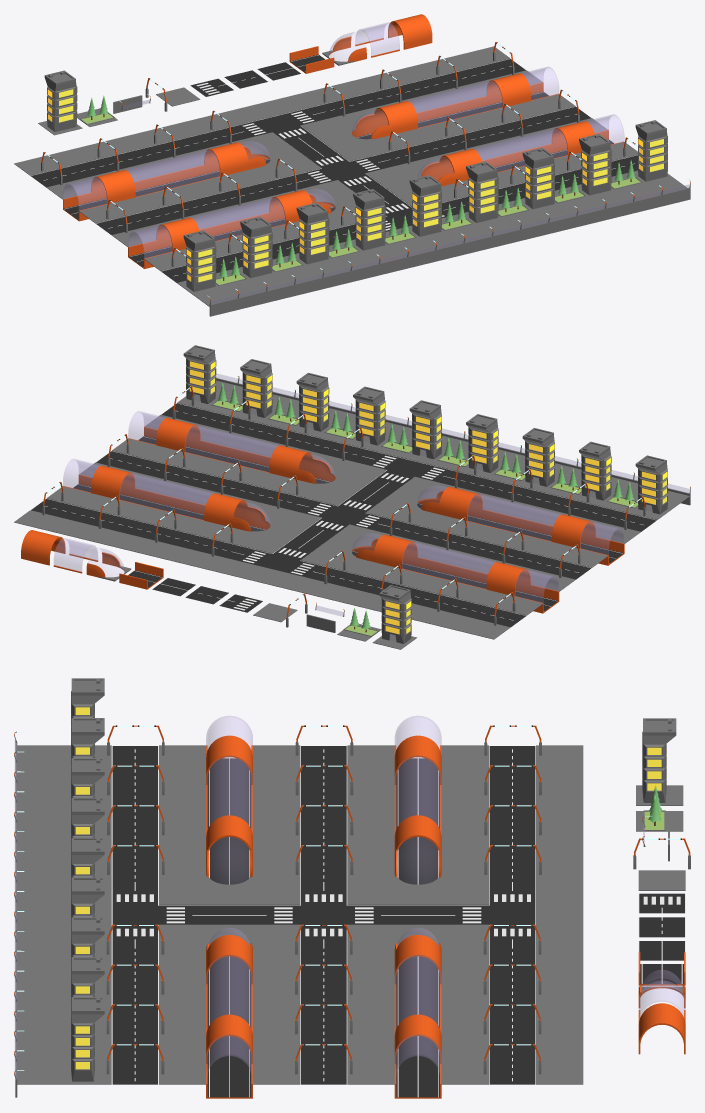
Rendered from env.glb.
The picture shows the model from 3 angles, top to bottom: view 1: azimuth 30°, elevation 25°; view 2: azimuth 150°, elevation 25°; view 3: azimuth 270°, elevation 25°; orthographic projection. The views are drawn at different scales.
Visible parts, largest first — view 1: Building_a.001, Walkside_a.013, Walkside_a.012, wall.001, Walkside_b.001, Walkside_a.004, Walkside_a.007, HightWayRaod.002, Road_a.001, Road_a.006, Road_a.002, Road_a.004 (+51 smaller); view 2: Building_a.001, Walkside_a.013, Walkside_b.001, Walkside_a.009, Walkside_a.005, Walkside_a.008, Walkside_a.014, HightWayRaod.002, HightWayRaod.001, Road_a.004, Road_a.003, Road_a.001 (+58 smaller); view 3: Walkside_a.012, Walkside_a.013, Building_a.001, HightWayRaod.001, HightWayRaod.002, Walkside_a.008, Walkside_a.014, Walkside_a.007, Walkside_a.005, Walkside_a.004, Walkside_a.009, Walkside_a.011 (+63 smaller).
Boxes of the visible parts, x1,y1,x2,y2 form: Building_a.001: [177, 120, 672, 294]; Walkside_a.013: [14, 46, 510, 175]; Walkside_a.012: [193, 177, 686, 306]; wall.001: [209, 188, 690, 316]; Walkside_b.001: [216, 160, 644, 287]; Walkside_a.004: [333, 94, 575, 161]; Walkside_a.007: [79, 156, 321, 223]; HightWayRaod.002: [63, 84, 548, 221]; Road_a.001: [96, 175, 308, 235]; Road_a.006: [313, 58, 525, 118]; Road_a.002: [31, 127, 243, 187]; Road_a.004: [378, 106, 590, 165]; Building_a.001: [177, 345, 673, 519]; Walkside_a.013: [14, 510, 510, 639]; Walkside_b.001: [205, 383, 638, 513]; Walkside_a.009: [112, 438, 353, 505]; Walkside_a.005: [46, 486, 288, 553]; Walkside_a.008: [301, 548, 542, 615]; Walkside_a.014: [366, 500, 607, 567]; HightWayRaod.002: [73, 476, 559, 613]; HightWayRaod.001: [138, 428, 624, 565]; Road_a.004: [96, 451, 309, 510]; Road_a.003: [444, 472, 656, 531]; Road_a.001: [378, 520, 591, 579]; Walkside_a.012: [17, 745, 64, 1084]; Walkside_a.013: [536, 745, 583, 1084]; Building_a.001: [64, 678, 111, 1084]; HightWayRaod.001: [206, 758, 252, 1098]; HightWayRaod.002: [394, 758, 441, 1098]; Walkside_a.008: [441, 745, 488, 905]; Walkside_a.014: [253, 745, 300, 905]; Walkside_a.007: [347, 745, 394, 905]; Walkside_a.005: [441, 924, 488, 1084]; Walkside_a.004: [347, 924, 394, 1084]; Walkside_a.009: [253, 924, 300, 1084]; Walkside_a.011: [159, 745, 205, 905].
Bounding box in the file's own units: 22100 × 2654 × 18667.
Materials: 2 (1 with a texture image).
